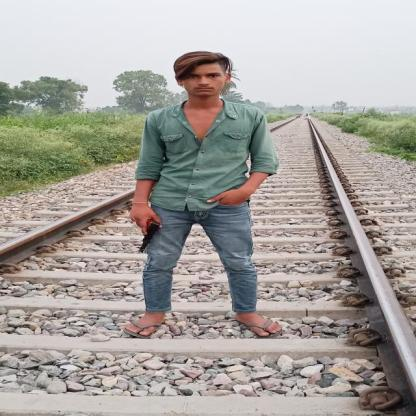handgun: (129, 214, 162, 255)
